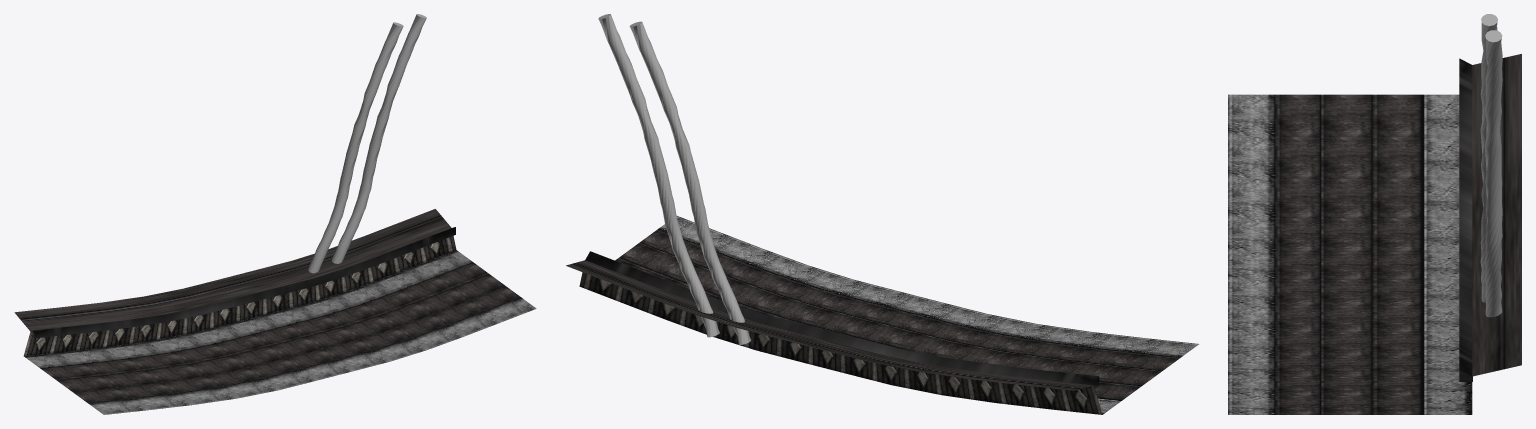
File: pir_deck 1.fbx
3 views of the same model, side by side, from view 1: azimuth 30°, elevation 25°; view 2: azimuth 150°, elevation 25°; view 3: azimuth 270°, elevation 25° (orthographic). The views are drawn at different scales.
Parts seen in each view (by area): view 1: pCube1, pCylinder1, pCylinder2; view 2: pCube1, pCylinder2, pCylinder1; view 3: pCube1, pCylinder2, pCylinder1.
Part boxes in pixels (left/top/right/bottom): pCube1: left=14, top=209, right=536, bottom=414; pCylinder1: left=308, top=22, right=403, bottom=273; pCylinder2: left=331, top=14, right=426, bottom=263; pCube1: left=566, top=216, right=1198, bottom=414; pCylinder2: left=598, top=14, right=719, bottom=337; pCylinder1: left=629, top=21, right=751, bottom=344; pCube1: left=1228, top=54, right=1521, bottom=414; pCylinder2: left=1484, top=30, right=1502, bottom=317; pCylinder1: left=1480, top=14, right=1497, bottom=302.
Bounding box in the file's own units: 9.86 × 5.57 × 3.81.
3 materials, 2 textured.
